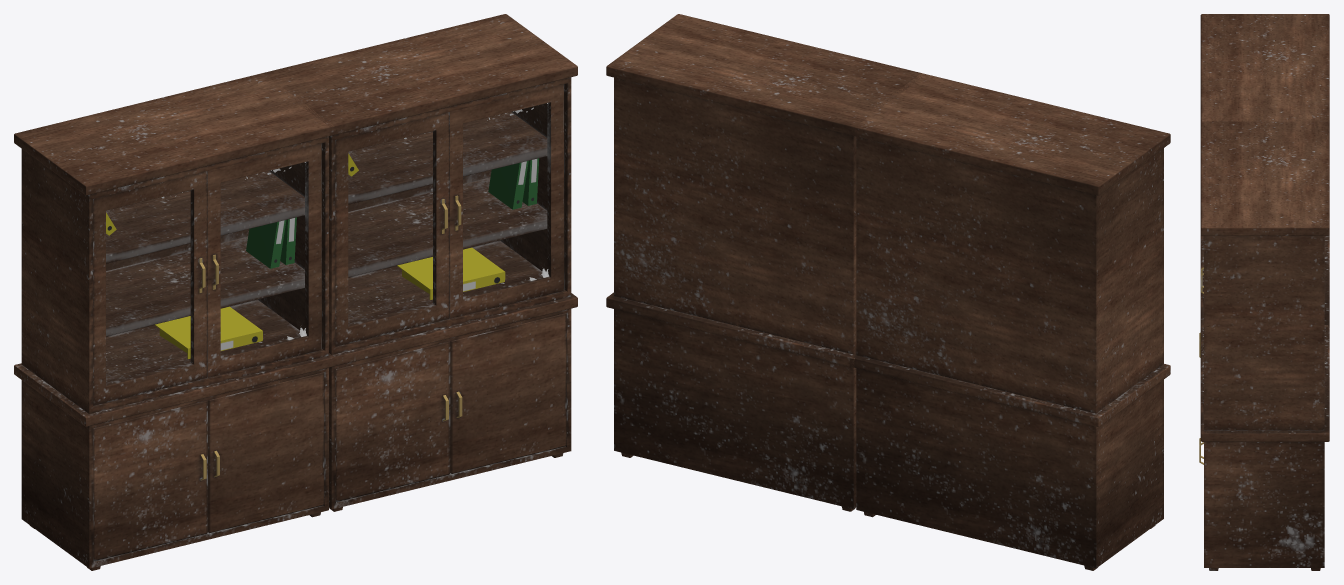
Rendered from M_PrincipalShelf.fbx.
The picture shows the model from 3 angles, left to right: view 1: azimuth 30°, elevation 25°; view 2: azimuth 150°, elevation 25°; view 3: azimuth 270°, elevation 25°; orthographic projection. The views are drawn at different scales.
Visible parts, largest first — view 1: principles_shelf_GEO, shelf_GEO, lowerR_GEO (×2), lowerL_GEO (×2), higherL02_door_GEO, higherL01_door_GEO, higherR01_door_GEO, higherR02_door_GEO, file05_GEO (×2), file04_GEO (×2); view 2: principles_shelf_GEO, shelf_GEO; view 3: shelf_GEO, principles_shelf_GEO.
Part boxes in pixels (x1,y1,x2,y2): principles_shelf_GEO: (14, 73, 334, 570); shelf_GEO: (258, 14, 577, 511); lowerR_GEO (×2): (208, 313, 566, 533); lowerL_GEO (×2): (93, 341, 450, 561); higherL02_door_GEO: (335, 112, 449, 346); higherL01_door_GEO: (93, 171, 207, 405); higherR01_door_GEO: (207, 143, 321, 377); higherR02_door_GEO: (449, 84, 563, 318); file05_GEO (×2): (155, 247, 505, 359); file04_GEO (×2): (246, 161, 528, 268); principles_shelf_GEO: (849, 73, 1170, 570); shelf_GEO: (606, 14, 925, 511); shelf_GEO: (1200, 119, 1329, 570); principles_shelf_GEO: (1200, 14, 1329, 327).
Bounding box in the file's own units: 174 × 132 × 44.98.
Materials: 4 (4 with a texture image).
